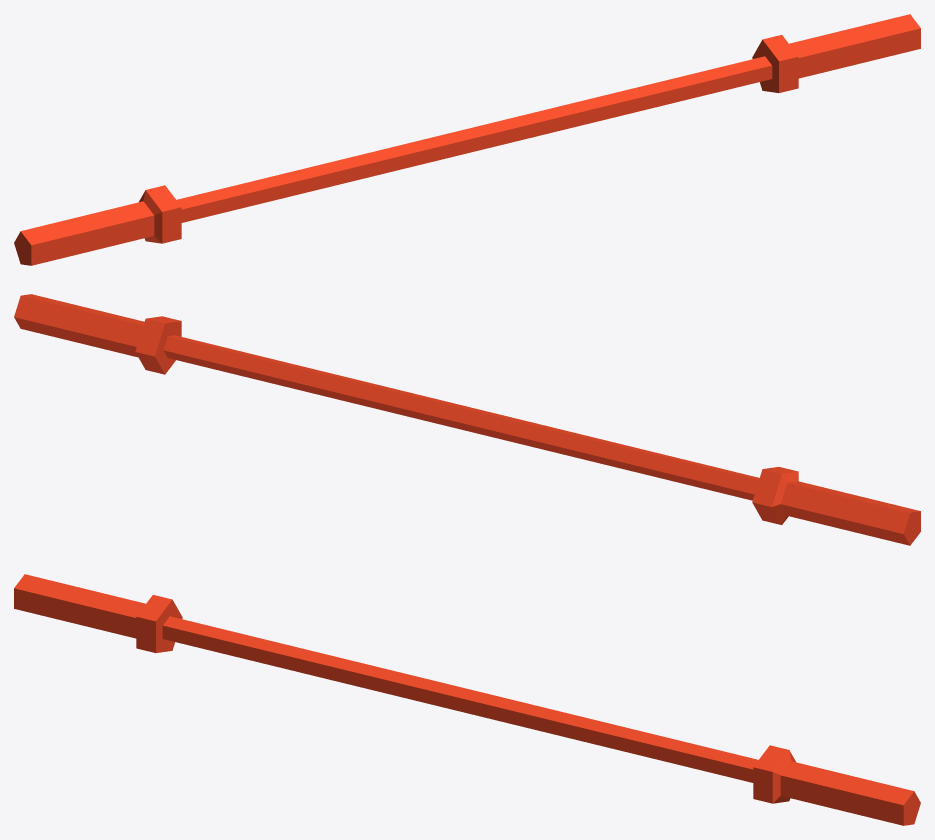
Rendered from SM_Bar_Gym_City.fbx.
3 renders of one model, top to bottom at view 1: azimuth 30°, elevation 25°; view 2: azimuth 150°, elevation 25°; view 3: azimuth 330°, elevation 25°, orthographic.
Parts seen in each view (by area): view 1: SM_Bar_Gym_City; view 2: SM_Bar_Gym_City; view 3: SM_Bar_Gym_City.
Boxes of the visible parts, box(x1,y1,x2,y2) form: SM_Bar_Gym_City: box(14, 14, 920, 265); SM_Bar_Gym_City: box(14, 294, 920, 545); SM_Bar_Gym_City: box(14, 574, 920, 825).
Size of the model in its own units: 1.7 by 0.0938 by 0.0892.
